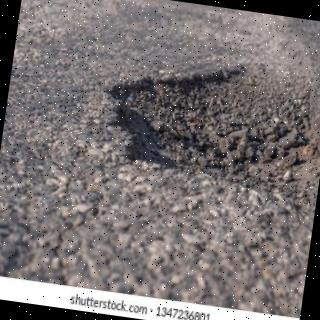pothole: (104, 64, 320, 216)
